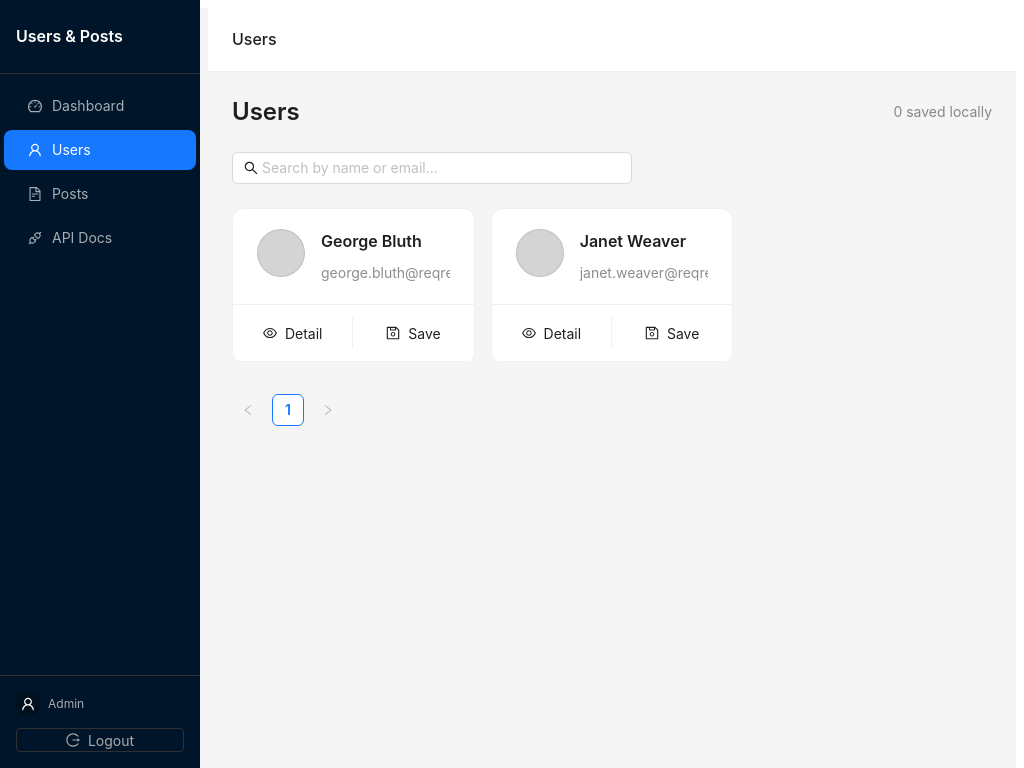
UsersPage › should filter users by search query
Expected: the text "George Bluth" is shown, [321,231,422,251]
Type "janet" into the field with placeholder "Search by name or email..." at coordinates (433, 168), box [262,157,604,179]
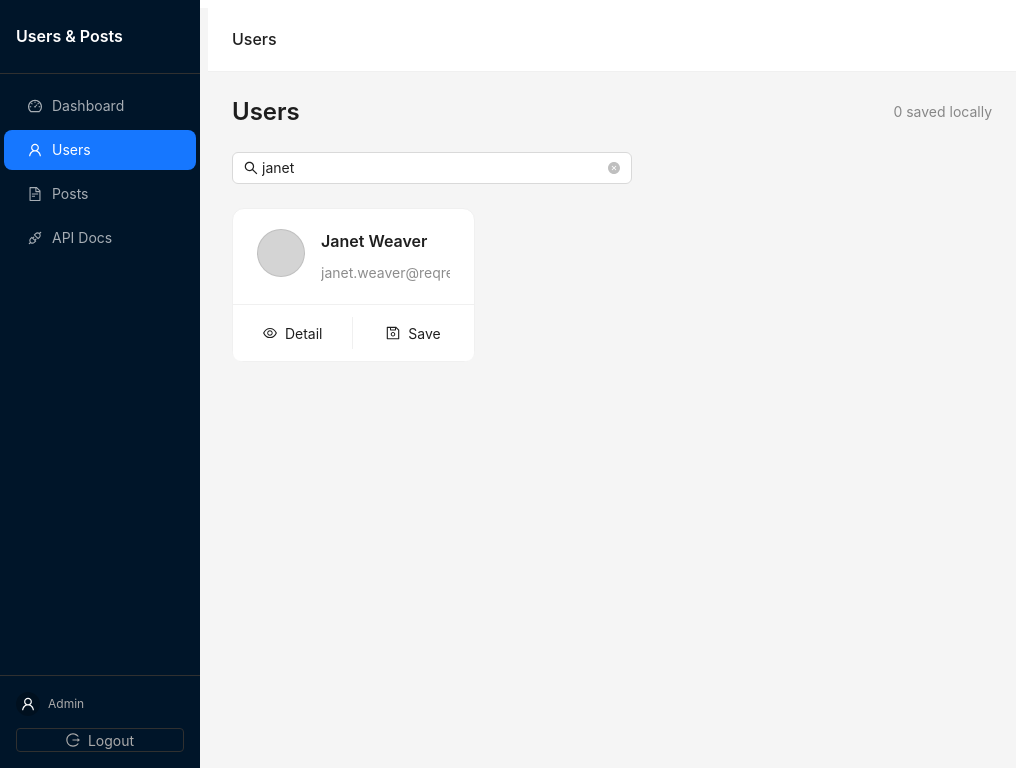
Expected: the text "Janet Weaver" is shown, [321,231,427,251]
Now the text "George Bluth" is gone
